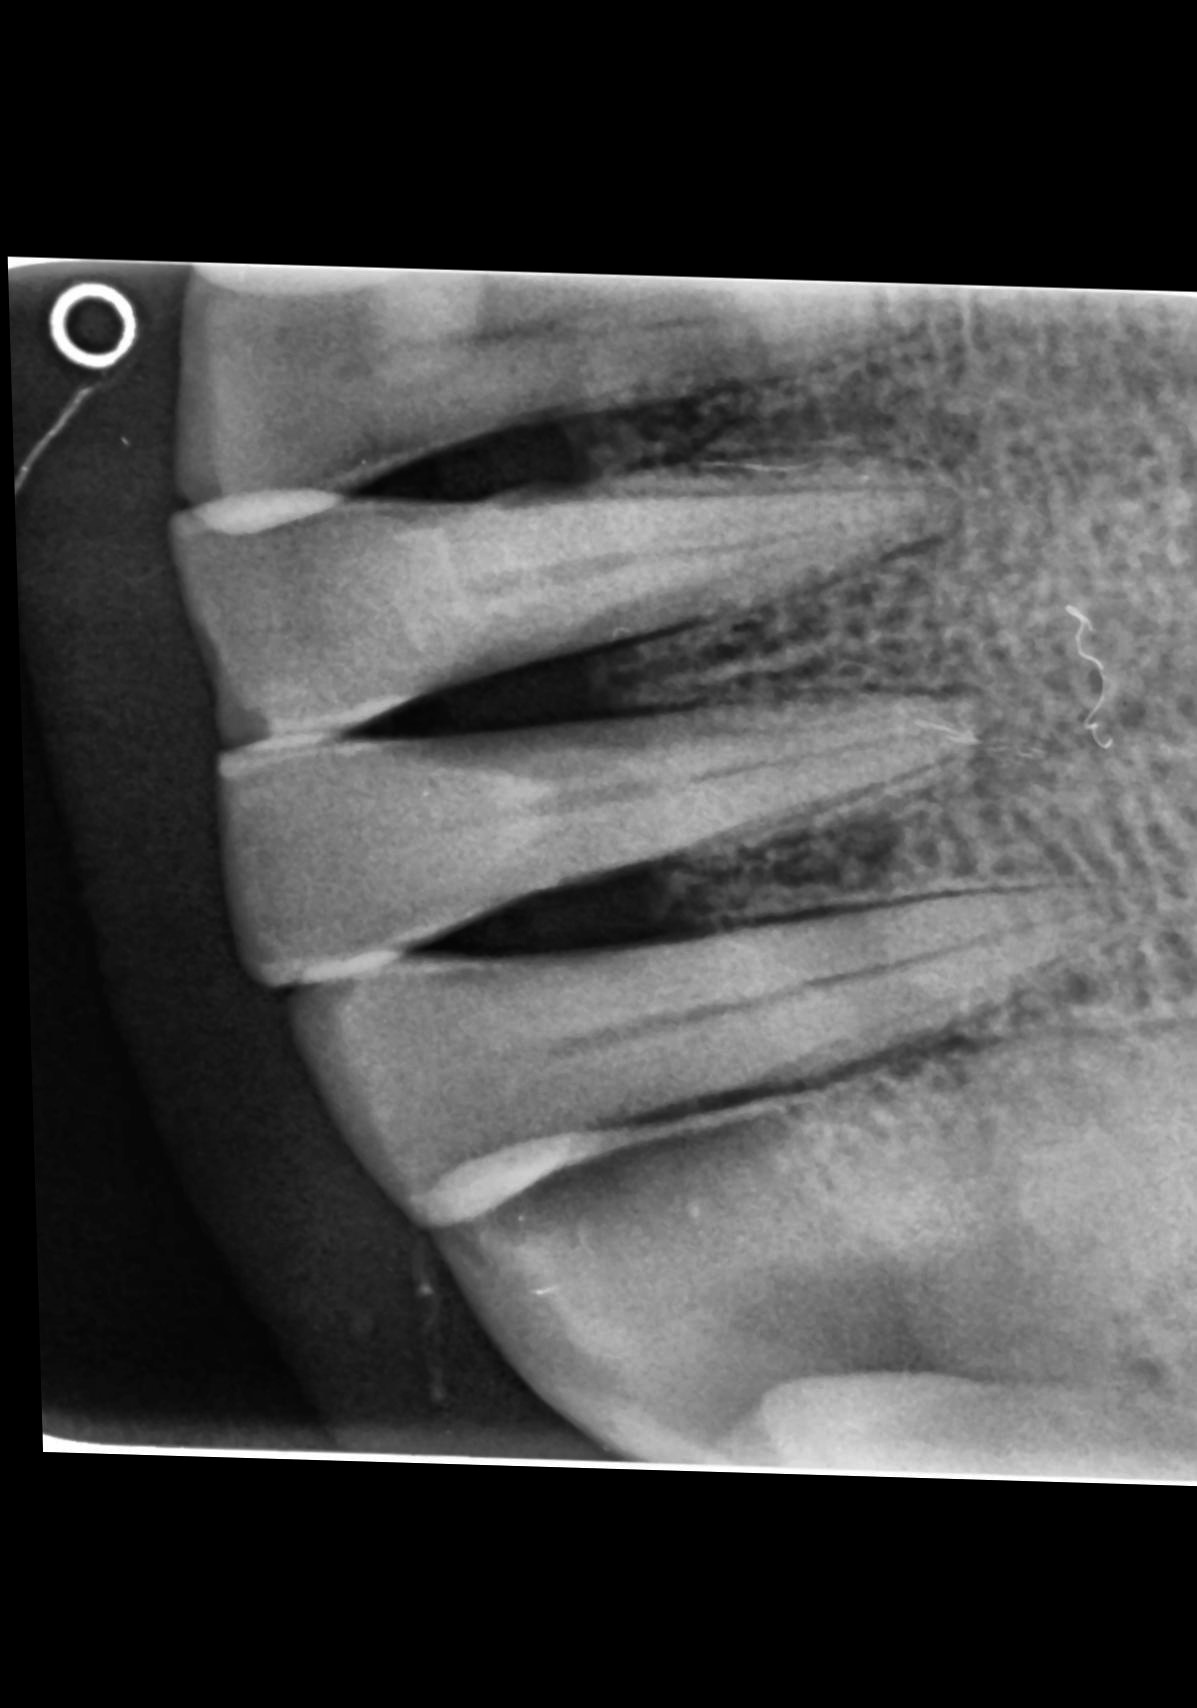Individual Tooth: (425, 1014, 1197, 1454), (273, 871, 1115, 1226), (203, 689, 971, 985), (177, 471, 959, 742), (165, 263, 926, 532), (653, 1365, 1197, 1469)
